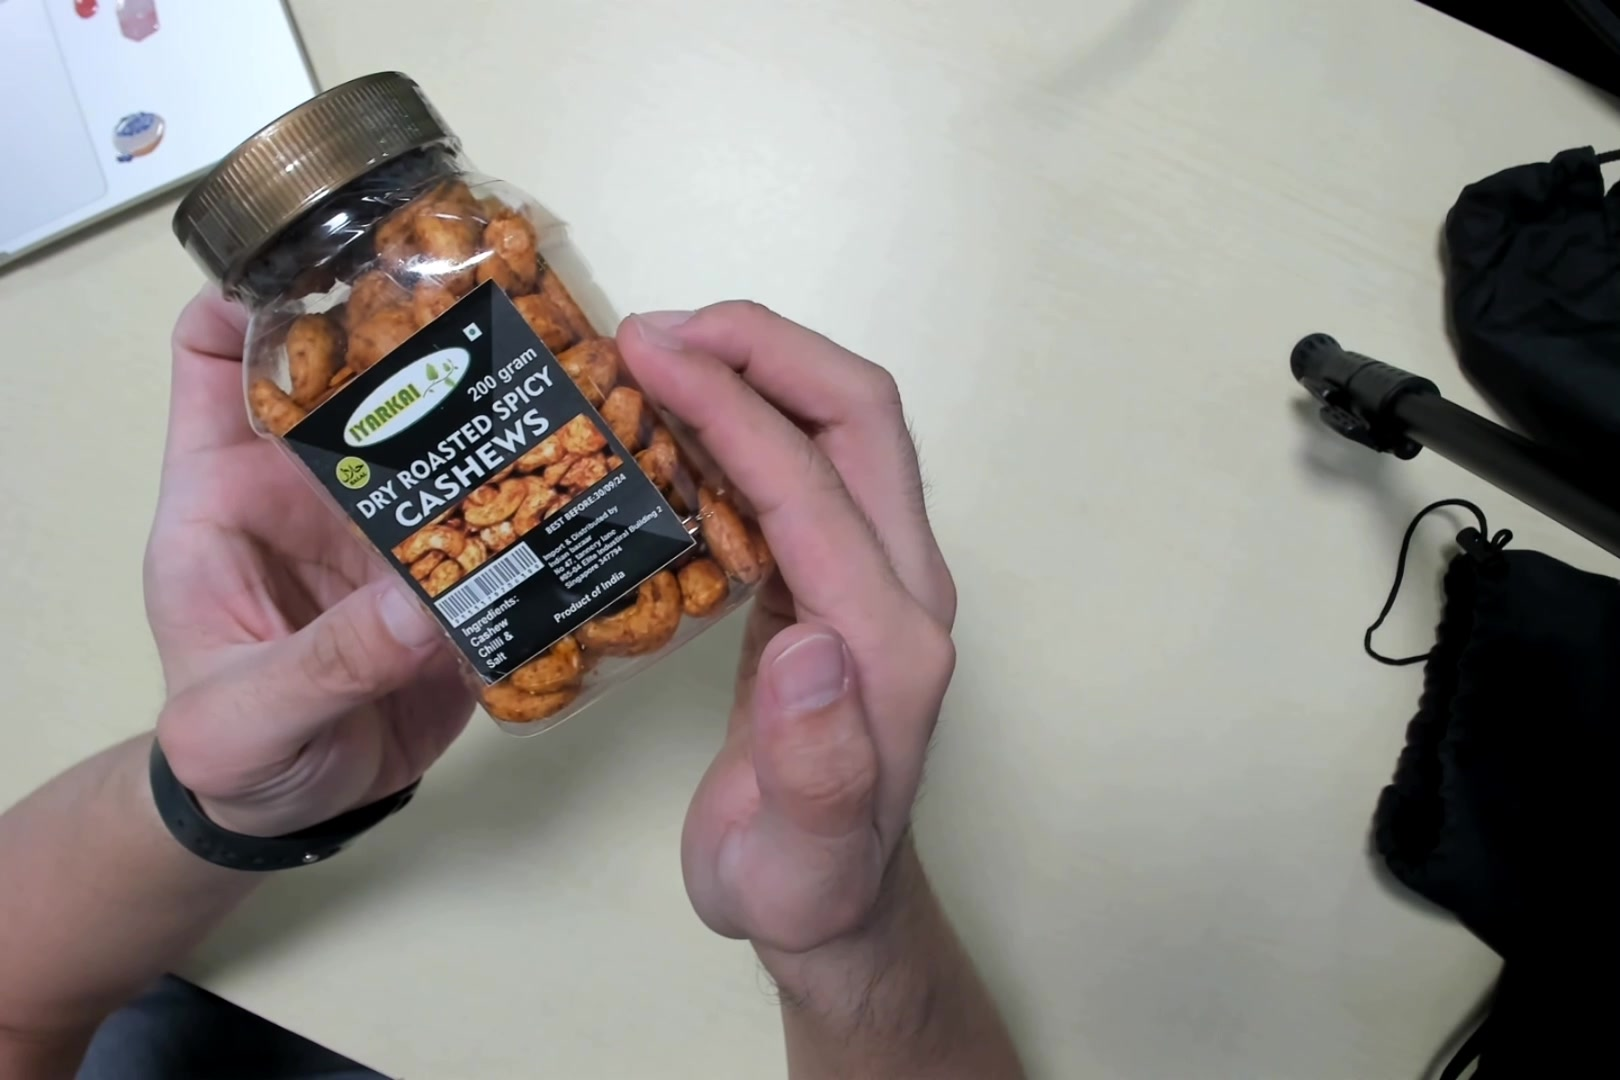Nuts_200-299g_NonHalal_NonHealthy: (196, 77, 782, 724)
